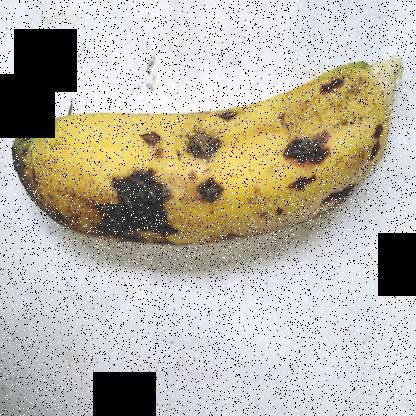rotten: (87, 116, 181, 249), (182, 114, 232, 215), (210, 87, 258, 151), (291, 118, 330, 193), (315, 176, 362, 225), (306, 55, 338, 107), (365, 122, 389, 167)
